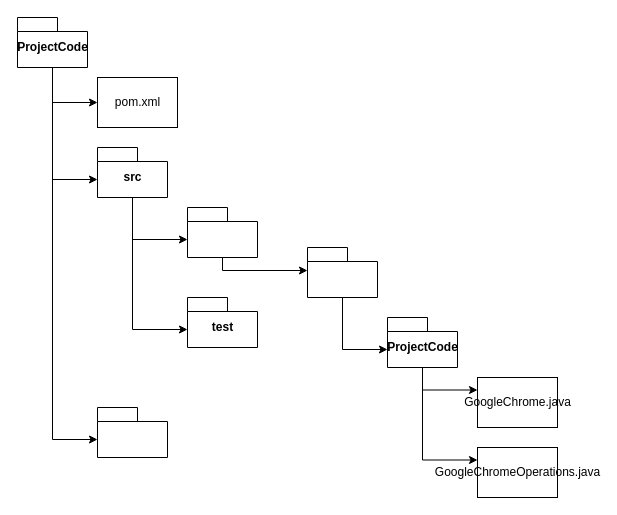
The diagram is 617 pixels wide and 515 high, and some of its shapes have lost their labels. The centre of each missing label's shape, as x and y in pixels:
java/com/zfac025Project: (x=342, y=272)
main: (x=222, y=232)
target: (x=132, y=432)
